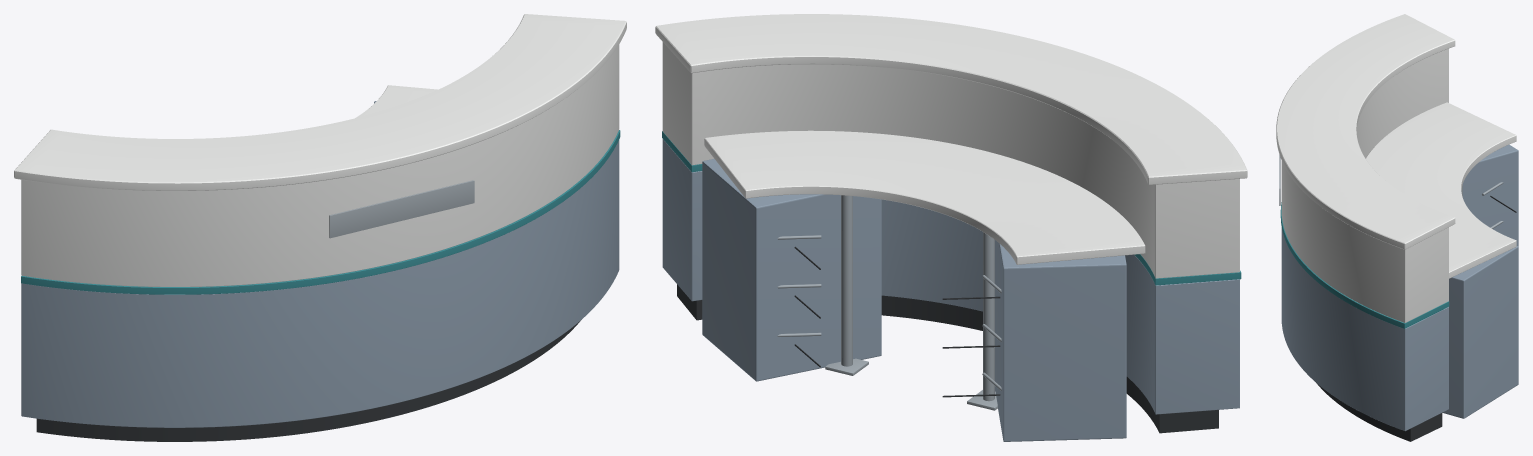
File: reception_desk.fbx
The picture shows the model from 3 angles, left to right: view 1: azimuth 30°, elevation 25°; view 2: azimuth 150°, elevation 25°; view 3: azimuth 270°, elevation 25°; orthographic projection. The views are drawn at different scales.
Visible parts, largest first — view 1: EQ_reception_desk_M_DeskBlueGrey, EQ_reception_desk_M_DeskWhite, EQ_reception_desk_M_DeskQuartz, EQ_reception_desk_M_DeskKick, EQ_reception_desk_M_DeskTeal, EQ_reception_desk_M_SteelBrushed; view 2: EQ_reception_desk_M_DeskBlueGrey, EQ_reception_desk_M_DeskQuartz, EQ_reception_desk_M_DeskWhite, EQ_reception_desk_M_SteelBrushed, EQ_reception_desk_M_DeskKick, EQ_reception_desk_M_DeskTeal; view 3: EQ_reception_desk_M_DeskQuartz, EQ_reception_desk_M_DeskBlueGrey, EQ_reception_desk_M_DeskWhite, EQ_reception_desk_M_DeskTeal, EQ_reception_desk_M_DeskKick.
Part boxes in pixels (x1,y1,x2,y2): EQ_reception_desk_M_DeskBlueGrey: (21,101,619,427); EQ_reception_desk_M_DeskWhite: (21,44,619,286); EQ_reception_desk_M_DeskQuartz: (14,14,626,190); EQ_reception_desk_M_DeskKick: (36,319,581,441); EQ_reception_desk_M_DeskTeal: (21,130,620,294); EQ_reception_desk_M_SteelBrushed: (329,180,474,238); EQ_reception_desk_M_DeskBlueGrey: (662,139,1239,441); EQ_reception_desk_M_DeskQuartz: (655,14,1247,264); EQ_reception_desk_M_DeskWhite: (662,42,1239,278); EQ_reception_desk_M_SteelBrushed: (777,195,1001,410); EQ_reception_desk_M_DeskKick: (677,246,1218,433); EQ_reception_desk_M_DeskTeal: (662,131,1241,285); EQ_reception_desk_M_DeskQuartz: (1276,14,1516,278); EQ_reception_desk_M_DeskBlueGrey: (1281,144,1518,431); EQ_reception_desk_M_DeskWhite: (1281,48,1448,322); EQ_reception_desk_M_DeskTeal: (1280,202,1449,328); EQ_reception_desk_M_DeskKick: (1316,195,1516,441).
Bounding box in the file's own units: 2.54 × 1.08 × 1.13.
